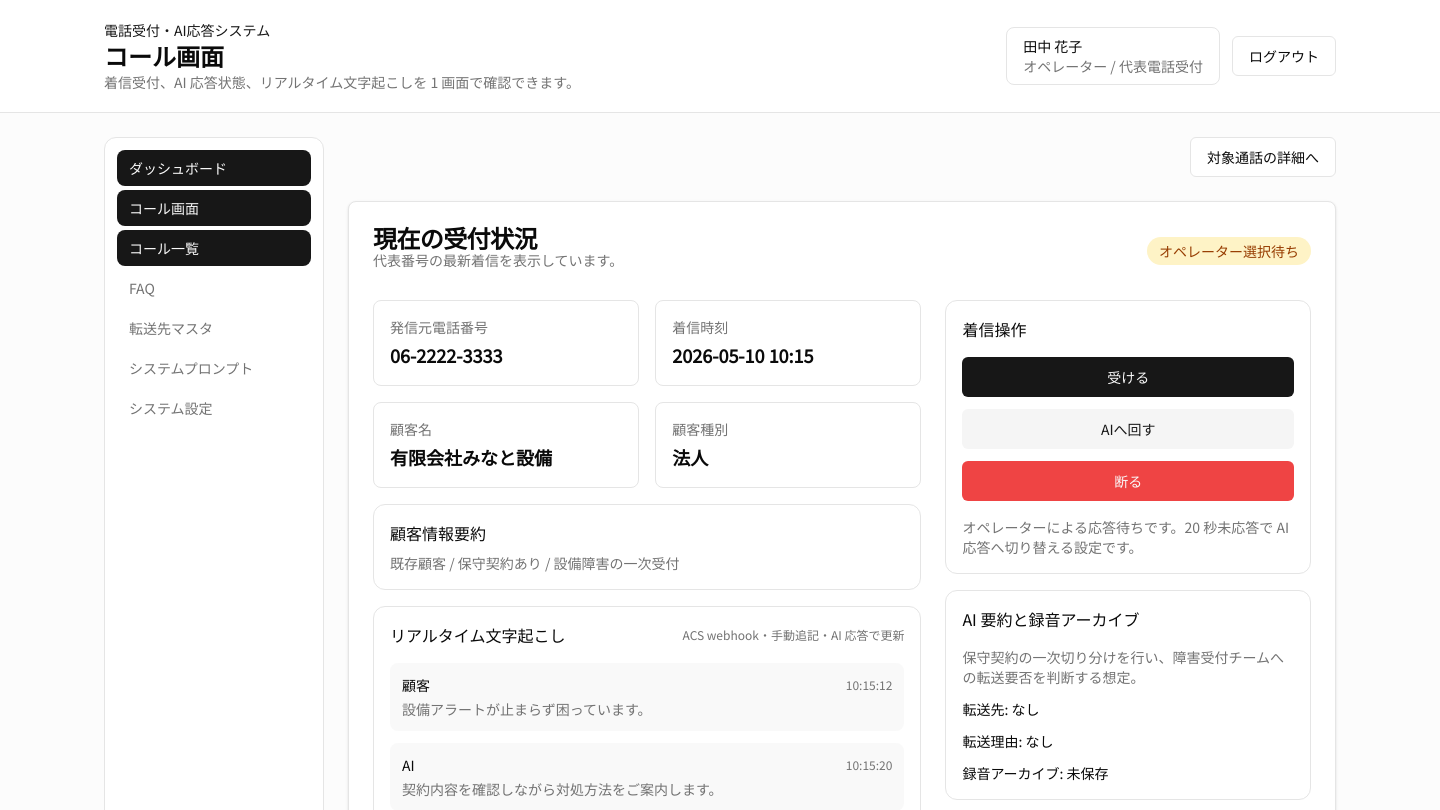
Test: CallConsolePage › 断る操作でお断りメッセージを表示する
Click the button "断る": (1128, 481) [962,461,1294,501]
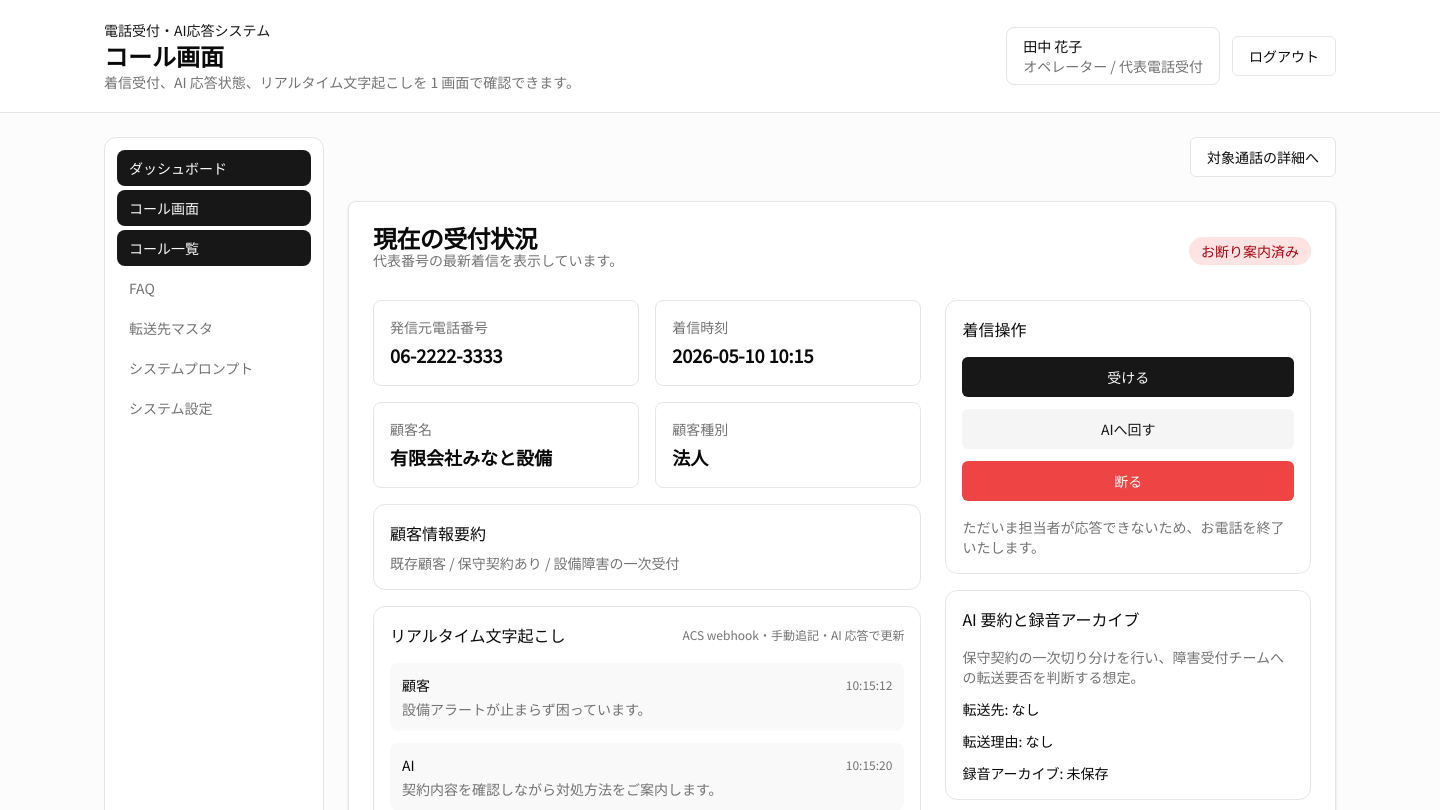
Expected: the text "お断り案内済み" is shown, [1189,237,1311,265]
Expected: the text "ただいま担当者が応答できないため、お電話を終了いたします。" is shown, [962,517,1294,557]
